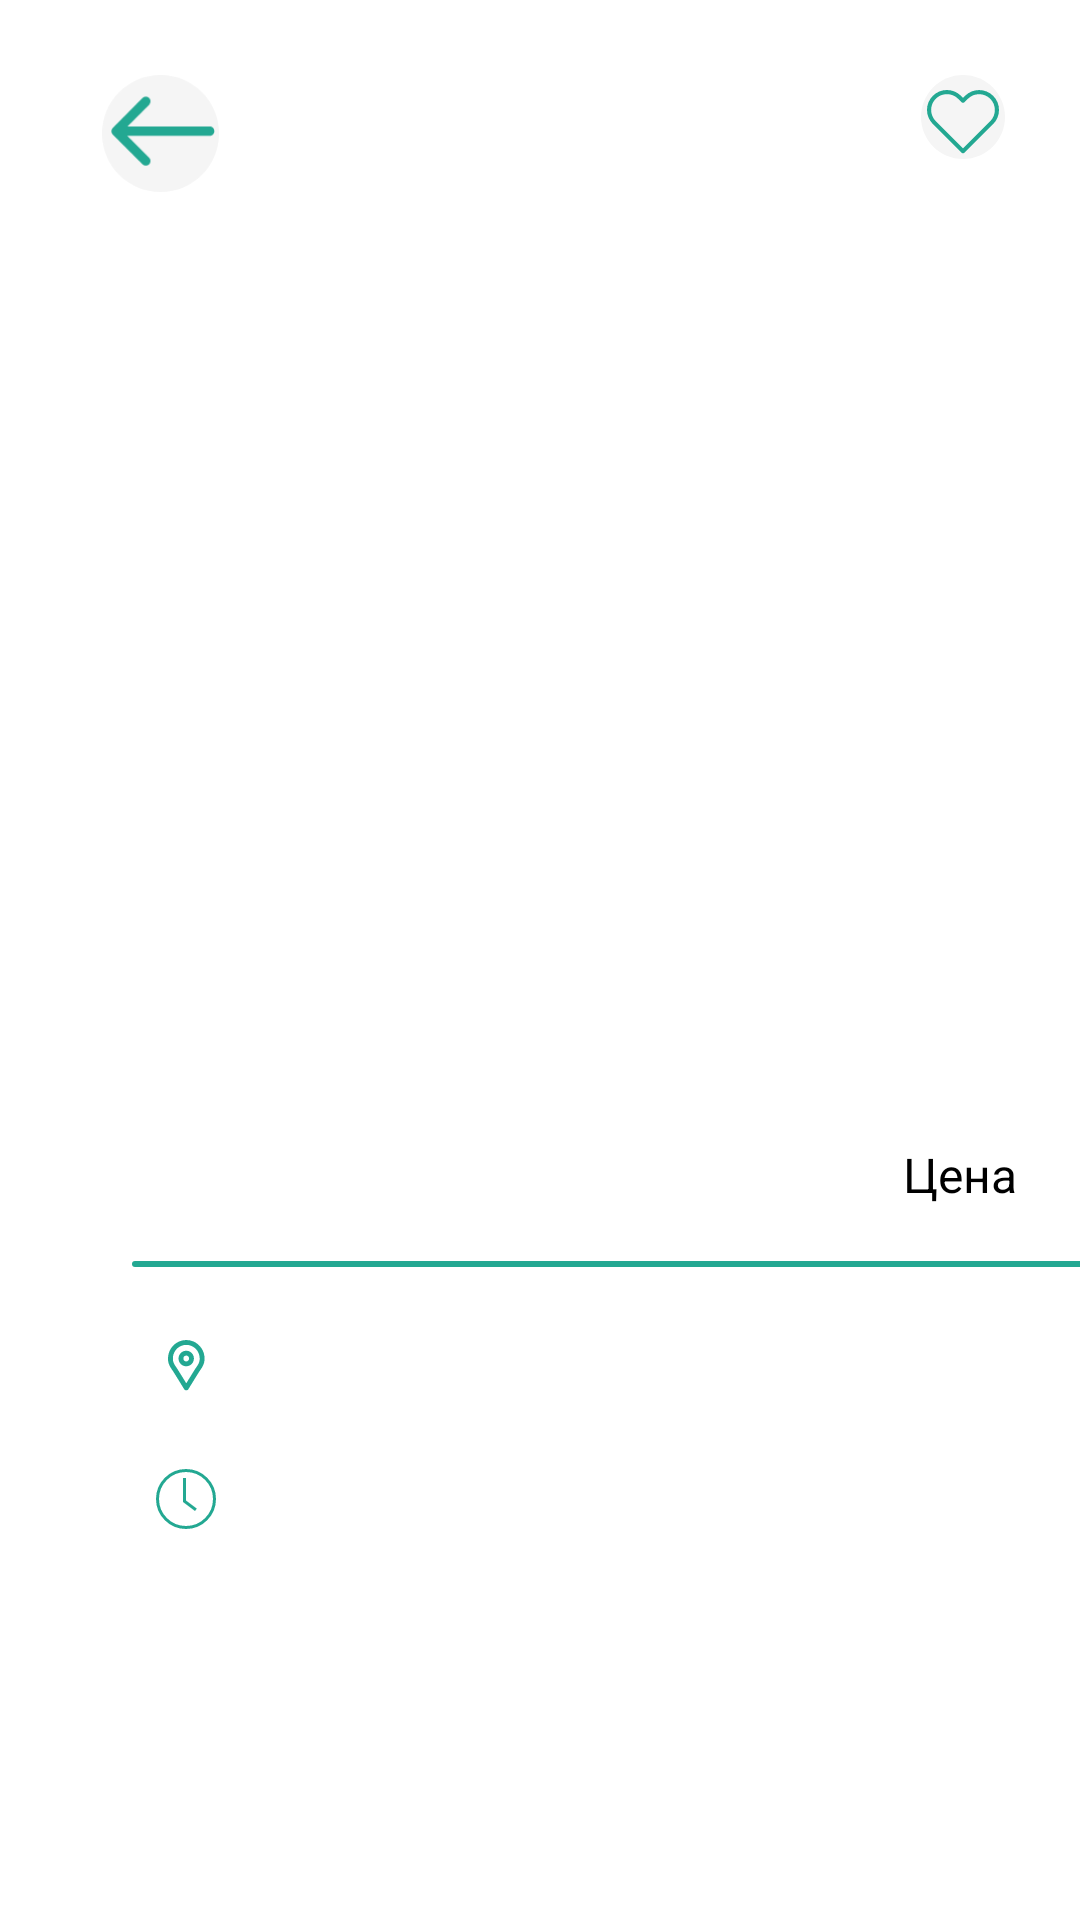

Icon bounding boxes for this 1080 x 1920 phone screenshot, format box(x1, y1, x2, y2):
back: box(102, 75, 219, 192)
clock: box(156, 1469, 216, 1529)
like: box(921, 75, 1005, 159)
map info: box(168, 1340, 205, 1391)
